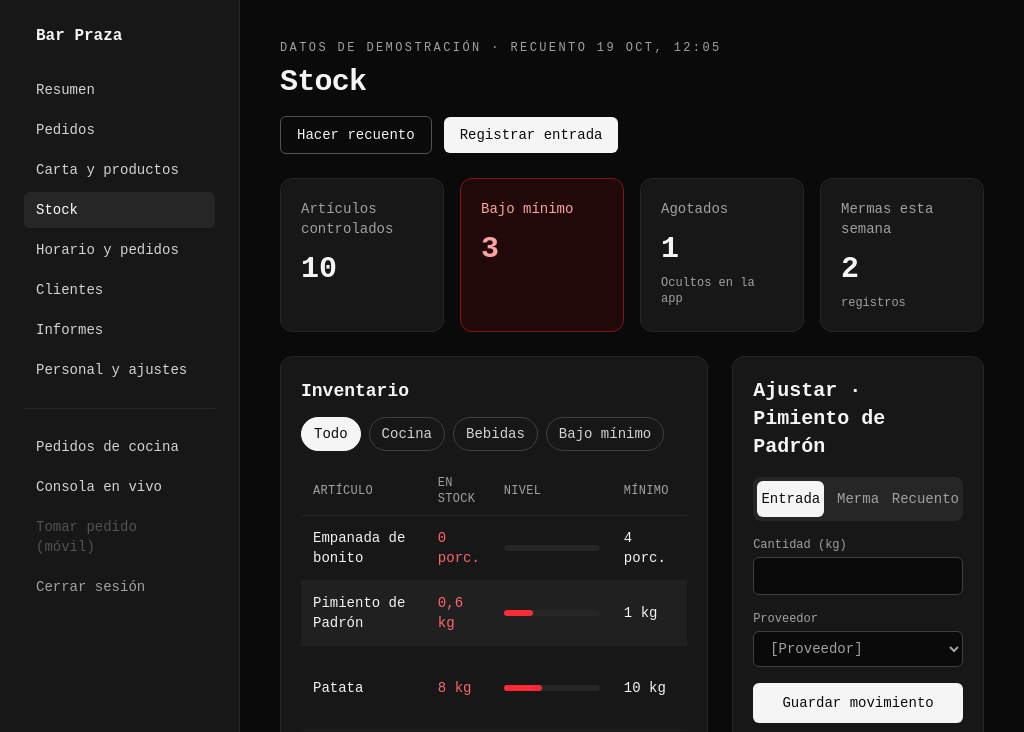
StockPage edge cases › warns when the result stays below the minimum
The image size is (1024, 732).
Type "0,2" into the field labelled "Cantidad (kg)" at x=858, y=576, box [753, 557, 963, 595]
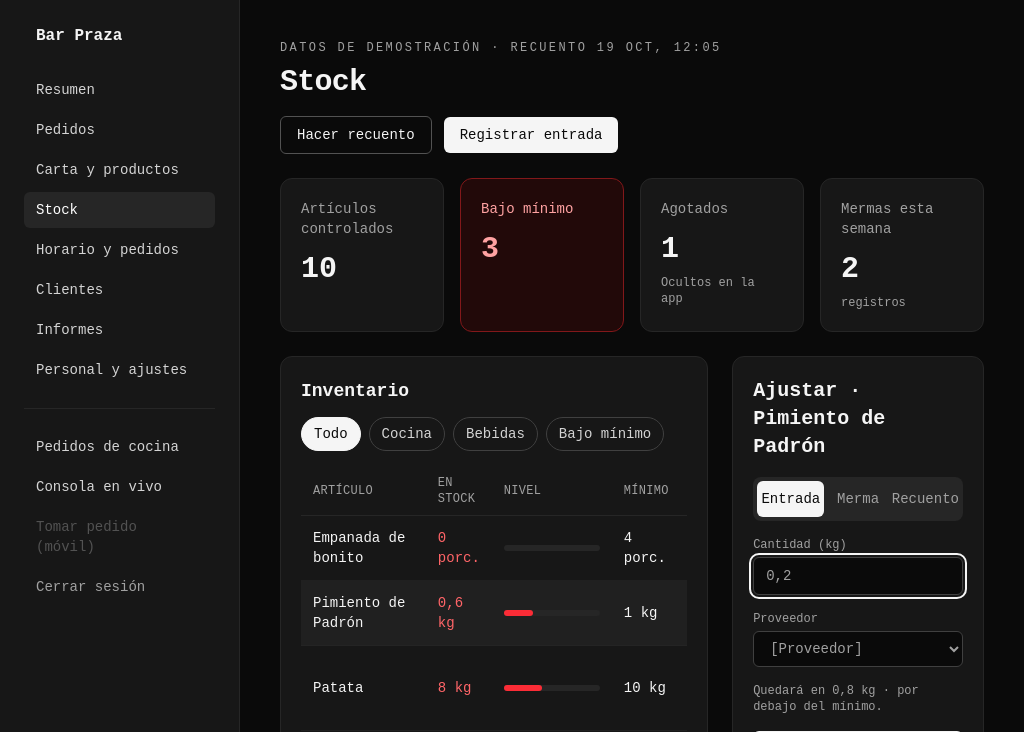
expect the text "Quedará en 0,8 kg · por debajo del mínimo." is shown: met, box [753, 684, 919, 714]
